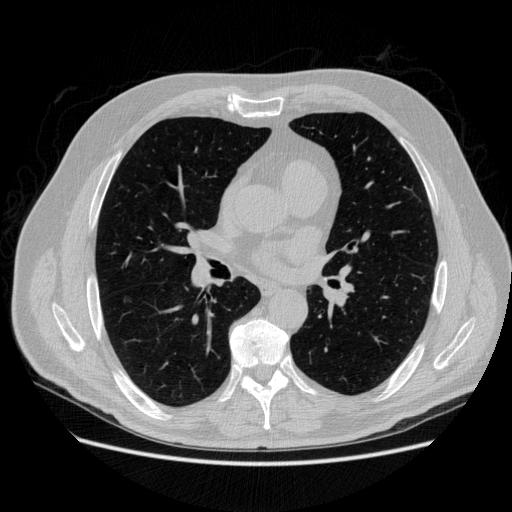nodule: (121, 293, 133, 305)
